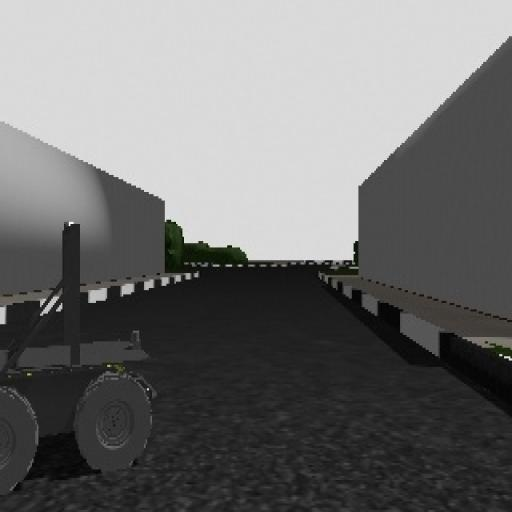huskya200: (0, 205, 155, 483)
